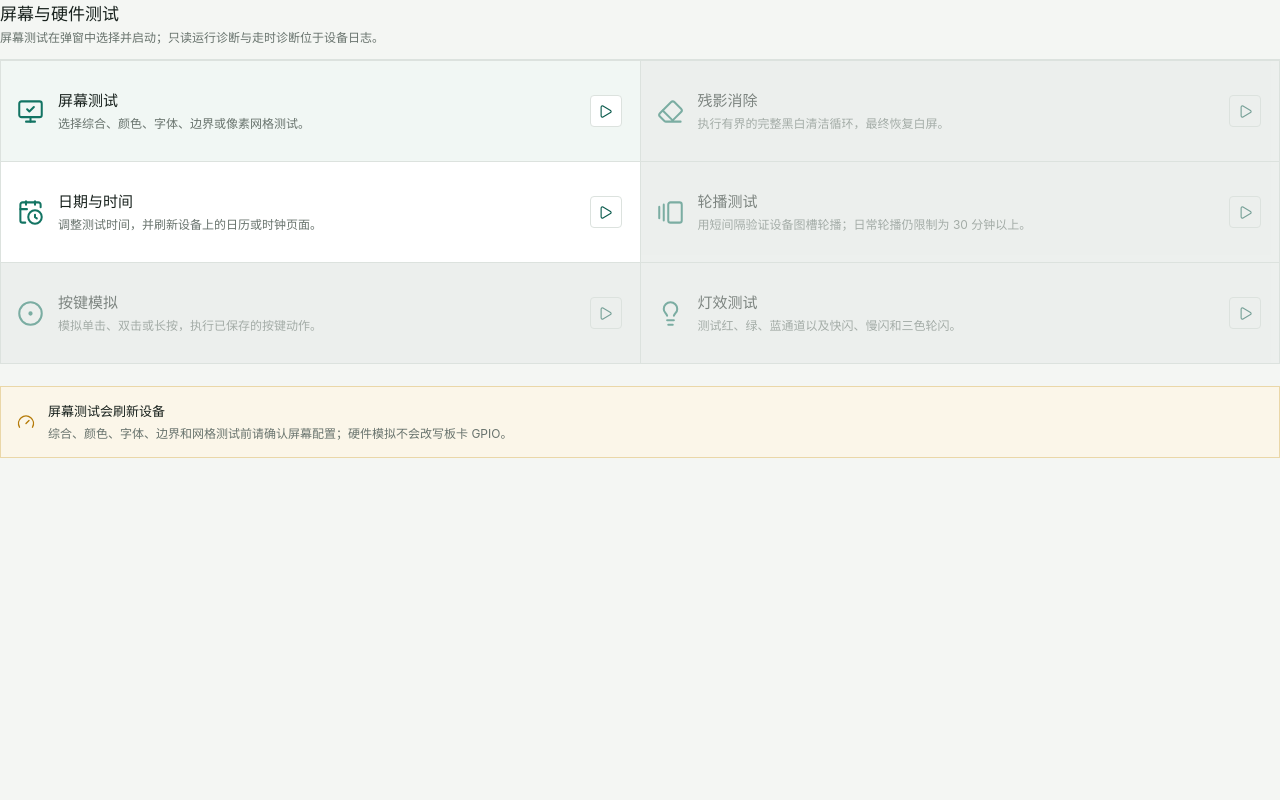
Test: enables a listed SET independently without enabling unlisted SHIFT
Click the button with class "test-card" showing "日期与时间 调整测试时间，并刷新设备上的日历或时钟页面。".
click(96, 202)  # box 1,162 -> 640,262
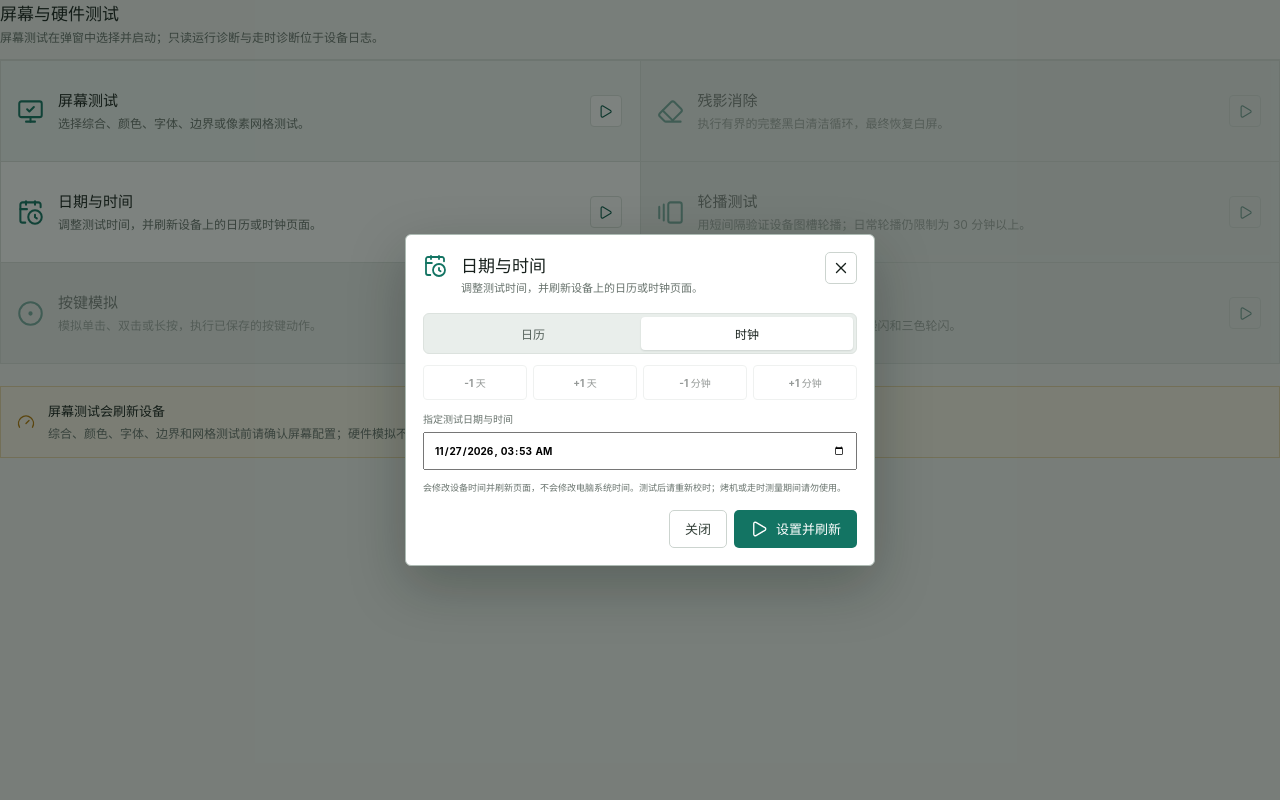
Check: the button "设置并刷新" is enabled, box 734,510 -> 857,548
